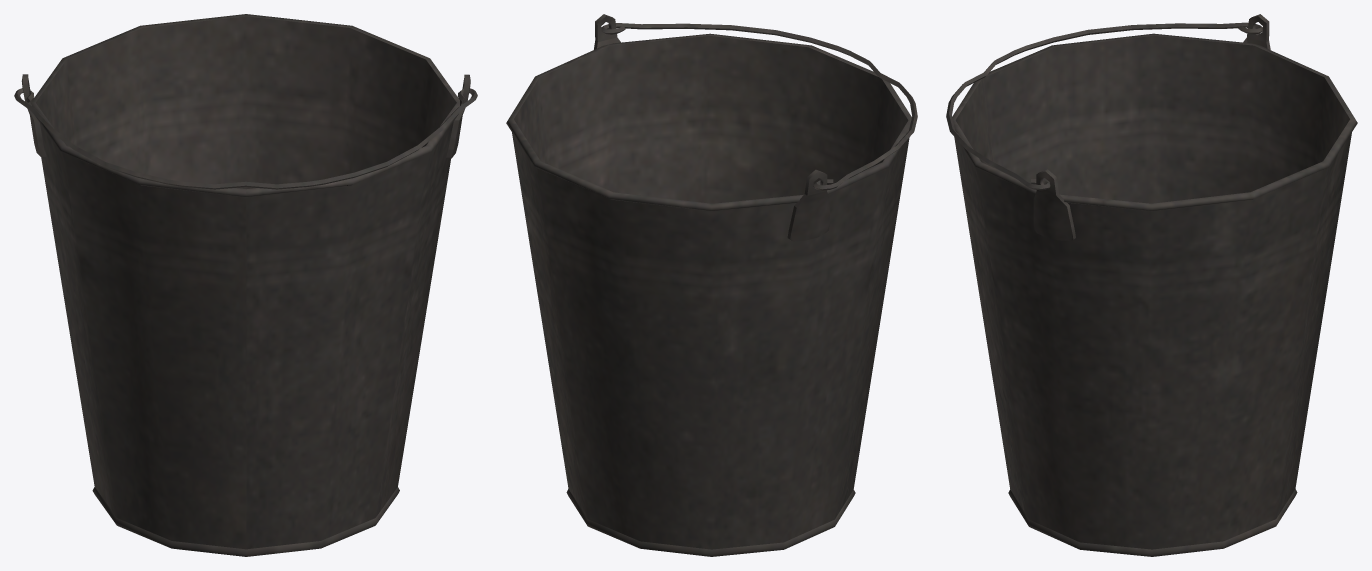
Rendered from bucket_mx_3.dae.
3 renders of one model, left to right at view 1: azimuth 30°, elevation 25°; view 2: azimuth 150°, elevation 25°; view 3: azimuth 270°, elevation 25°, orthographic. The views are drawn at different scales.
Visible parts, largest first — view 1: bucket_mx_3; view 2: bucket_mx_3; view 3: bucket_mx_3.
Boxes of the visible parts, x1=… form: bucket_mx_3: x1=14, y1=14, x2=477, y2=556; bucket_mx_3: x1=506, y1=14, x2=917, y2=556; bucket_mx_3: x1=946, y1=14, x2=1357, y2=556.
Bounding box in the file's own units: 0.4299 × 0.4298 × 0.4651.
1 material, 1 textured.
